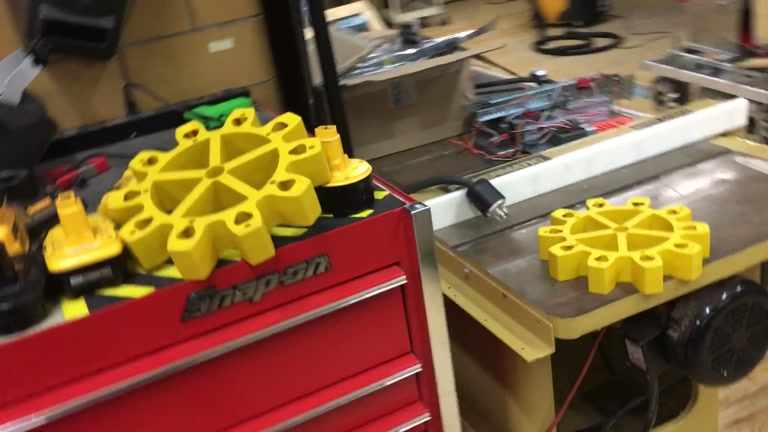gear: (107, 106, 331, 283), (536, 195, 712, 295)
